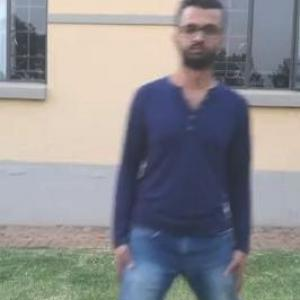follow: (108, 3, 236, 299)
